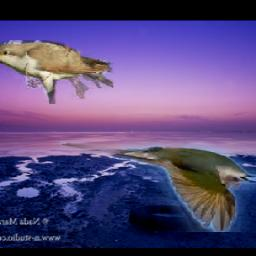Cuckoo: (60, 141, 256, 232), (0, 40, 112, 104)
